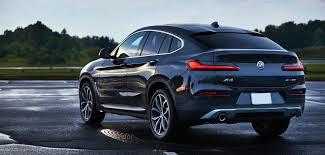car: (70, 19, 308, 143)
